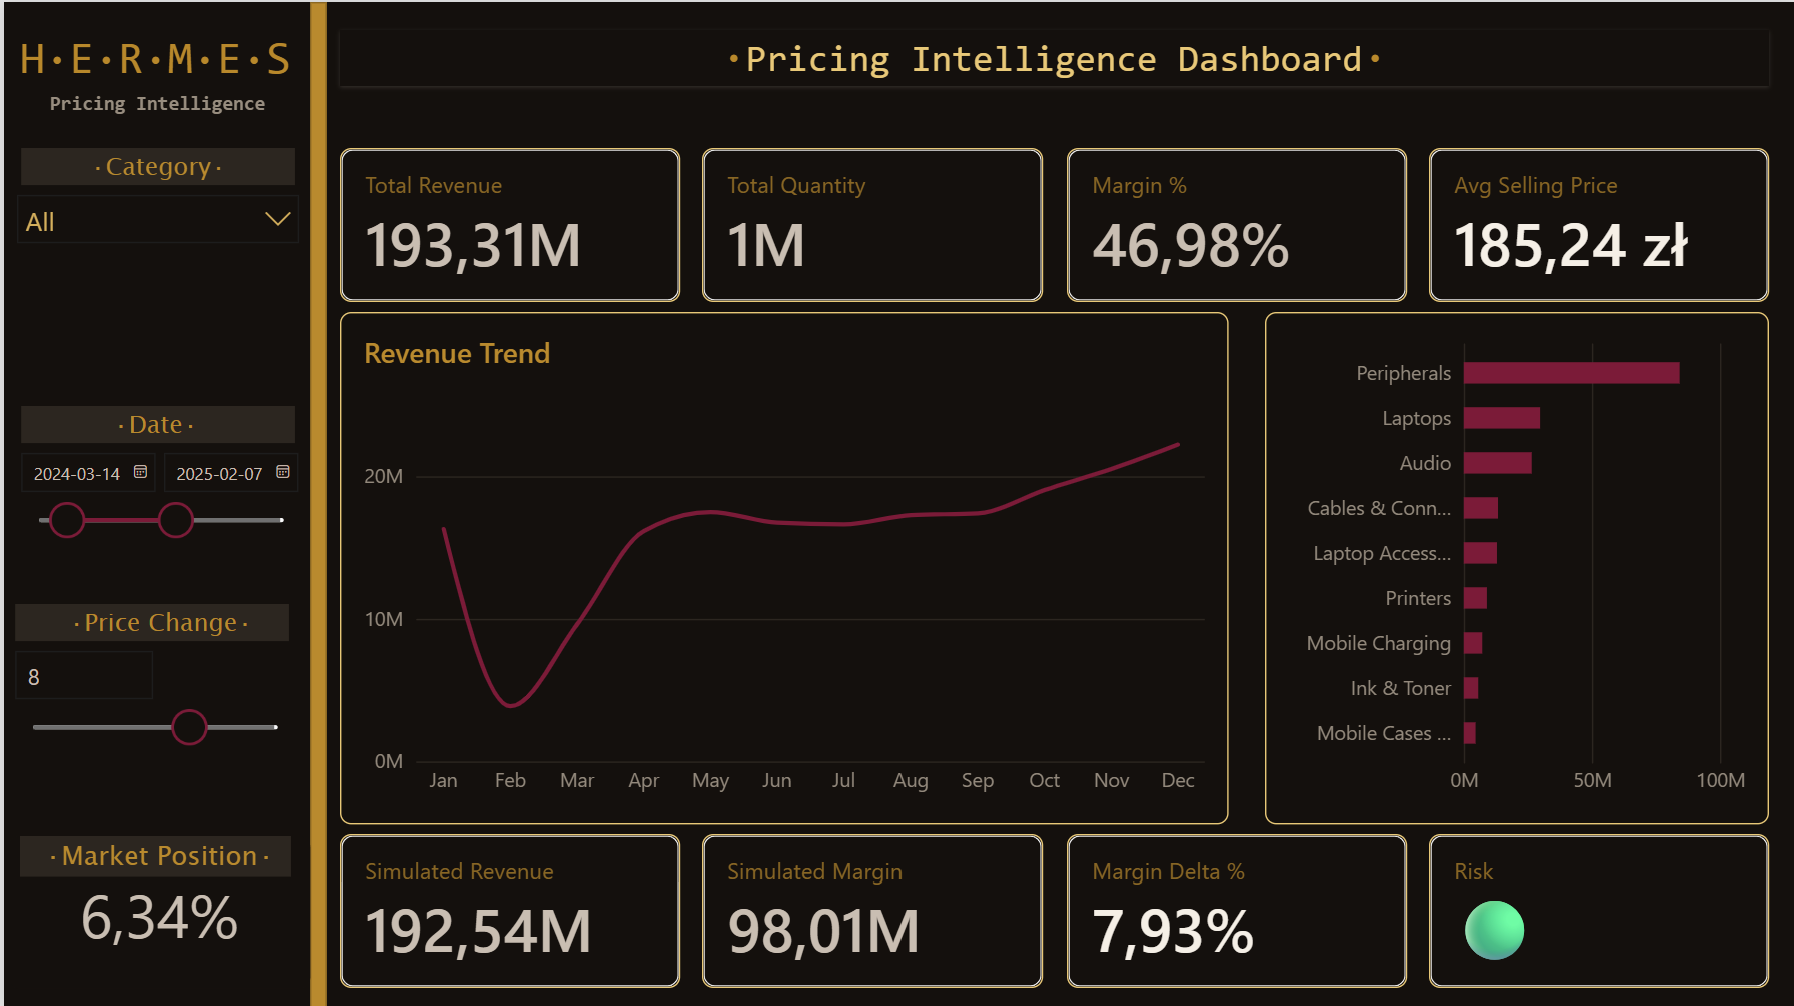

This screenshot's page, from the dashboard's own definition file:
{"tool":"powerbi","page":{"name":"Main Metrics Dashboard","canvas":[1280,720],"ordinal":0},"visuals":[{"type":"shape","box":[218.9,0,12,720.1],"z":0},{"type":"textbox","box":[12,21.5,207,40.7],"z":1000},{"type":"textbox","box":[20.3,62.2,179.4,21.5],"z":2000},{"type":"slicer","fields":{"Values":["dim_product.Category"]},"box":[3.6,104.1,211.7,368.4],"z":3000},{"type":"cardVisual","fields":{"Data":["_Measures.Total Revenue"]},"box":[240,104,243,110],"z":4000},{"type":"cardVisual","fields":{"Data":["_Measures.Total Quantity"]},"box":[499,104,243,110],"z":5000},{"type":"cardVisual","fields":{"Data":["_Measures.Margin %"]},"box":[758,104,243,110],"z":6000},{"type":"cardVisual","fields":{"Data":["_Measures.Avg Selling Price"]},"box":[1017,104,243,110],"z":7000},{"type":"lineChart","title":"Revenue Trend","fields":{"Category":["dim_date.MonthName"],"Y":["_Measures.Total Revenue"]},"box":[240,222,634,366],"z":8000},{"type":"clusteredBarChart","fields":{"Category":["dim_product.Category"],"Y":["_Measures.Total Revenue"]},"box":[899.7,222,360,366],"z":9000},{"type":"textbox","box":[240,20,1020,40],"z":10000},{"type":"slicer","fields":{"Values":["dim_date.Date"]},"box":[4.3,288.1,211.4,141.9],"z":11000},{"type":"slicer","fields":{"Values":["Price Change %.Price Change %"]},"box":[0,430.1,211.4,141.9],"z":12000},{"type":"cardVisual","fields":{"Data":["_Measures.Simulated Revenue"]},"box":[240.4,594.9,243,110],"z":13000},{"type":"cardVisual","fields":{"Data":["_Measures.Simulated Margin"]},"box":[499,594,243,110],"z":14000},{"type":"cardVisual","fields":{"Data":["_Measures.Margin Delta %"]},"box":[758,594,243,110],"z":15000},{"type":"cardVisual","fields":{"Data":["_Measures.Risk"]},"box":[1017,594,243,110],"z":16000},{"type":"cardVisual","fields":{"Data":["_Measures.Live Price Gap %"]},"box":[2.2,595.6,216.1,109.1],"z":17000},{"type":"textbox","box":[11.8,595.5,193.6,29],"z":18000}]}

Visuals, with their boxes in screenshot pixels (x1, y1, x2, y2), scaled from the page's 1280x720 canvas onto the 1794x1006 screenshot:
shape: 307:0:324:1005
textbox: 17:30:307:87
textbox: 28:87:280:117
slicer - dim_product.Category: 5:145:302:660
cardVisual - _Measures.Total Revenue: 336:145:677:299
cardVisual - _Measures.Total Quantity: 699:145:1040:299
cardVisual - _Measures.Margin %: 1062:145:1403:299
cardVisual - _Measures.Avg Selling Price: 1425:145:1766:299
"Revenue Trend" lineChart: 336:310:1225:822
clusteredBarChart - dim_product.Category x _Measures.Total Revenue: 1261:310:1766:822
textbox: 336:28:1766:84
slicer - dim_date.Date: 6:403:302:601
slicer - Price Change %.Price Change %: 0:601:296:799
cardVisual - _Measures.Simulated Revenue: 337:831:678:985
cardVisual - _Measures.Simulated Margin: 699:830:1040:984
cardVisual - _Measures.Margin Delta %: 1062:830:1403:984
cardVisual - _Measures.Risk: 1425:830:1766:984
cardVisual - _Measures.Live Price Gap %: 3:832:306:985
textbox: 17:832:288:873
